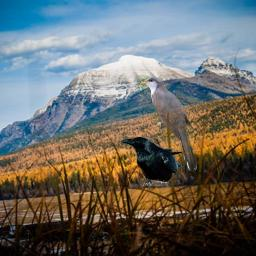Crow: (121, 137, 182, 186)
Cuckoo: (137, 75, 199, 173)
